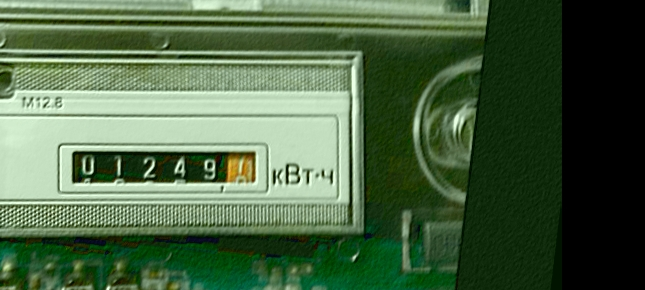0: (76, 151, 98, 179)
1: (108, 154, 126, 180)
2: (138, 155, 161, 183)
4: (170, 153, 191, 182)
7: (231, 152, 249, 178)
9: (199, 157, 220, 184)
screen: (45, 123, 285, 225)
